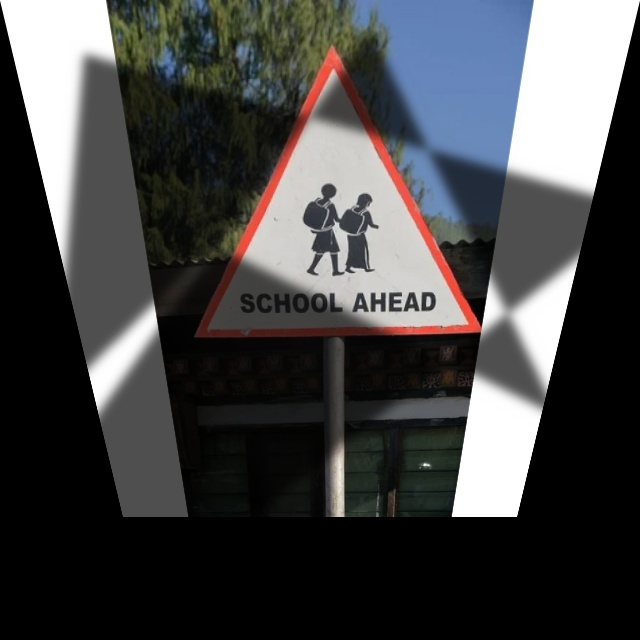School_Ahead: (183, 45, 517, 340)
